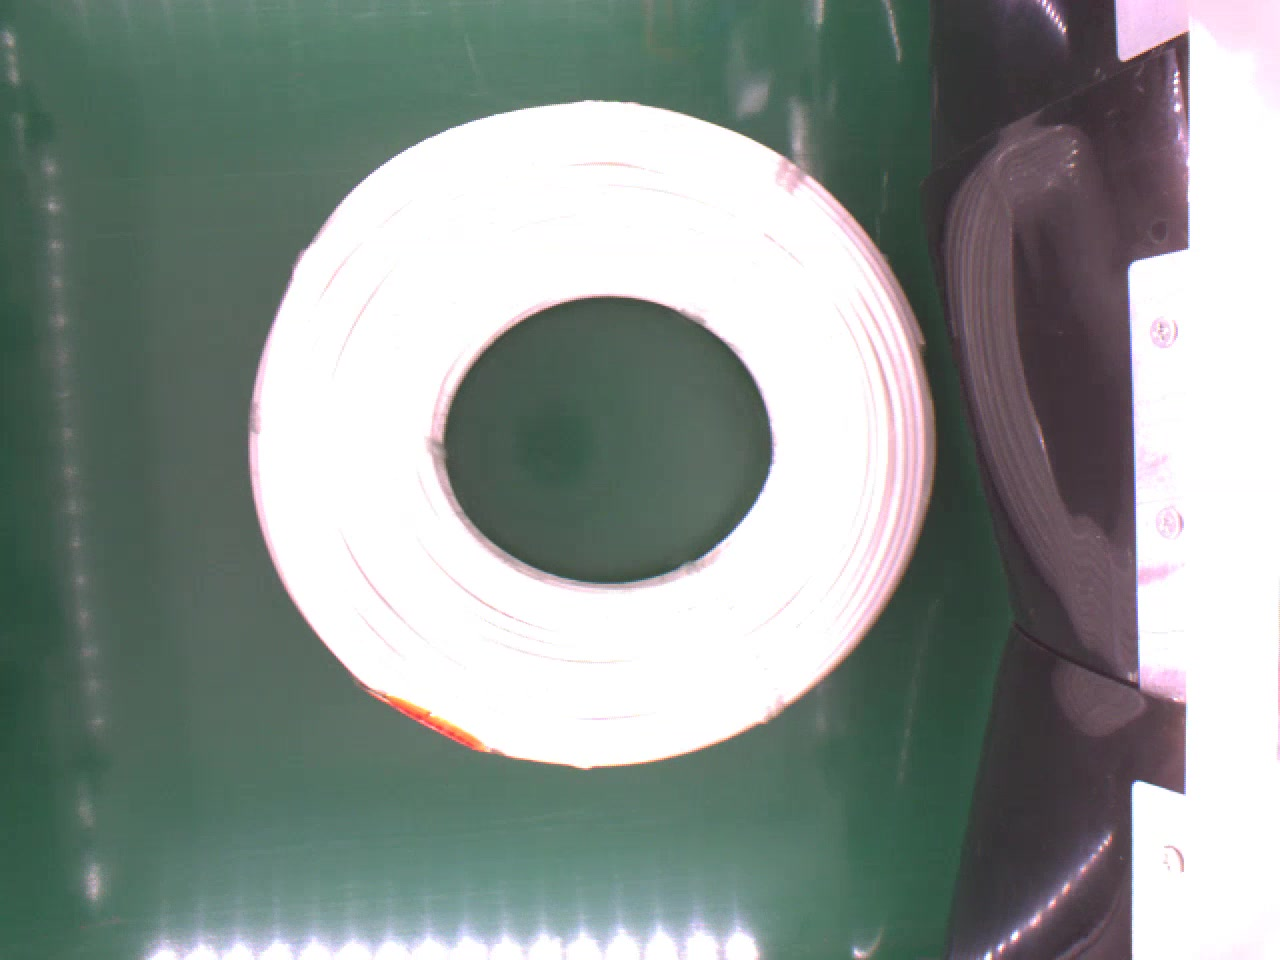white: (242, 95, 949, 773)
